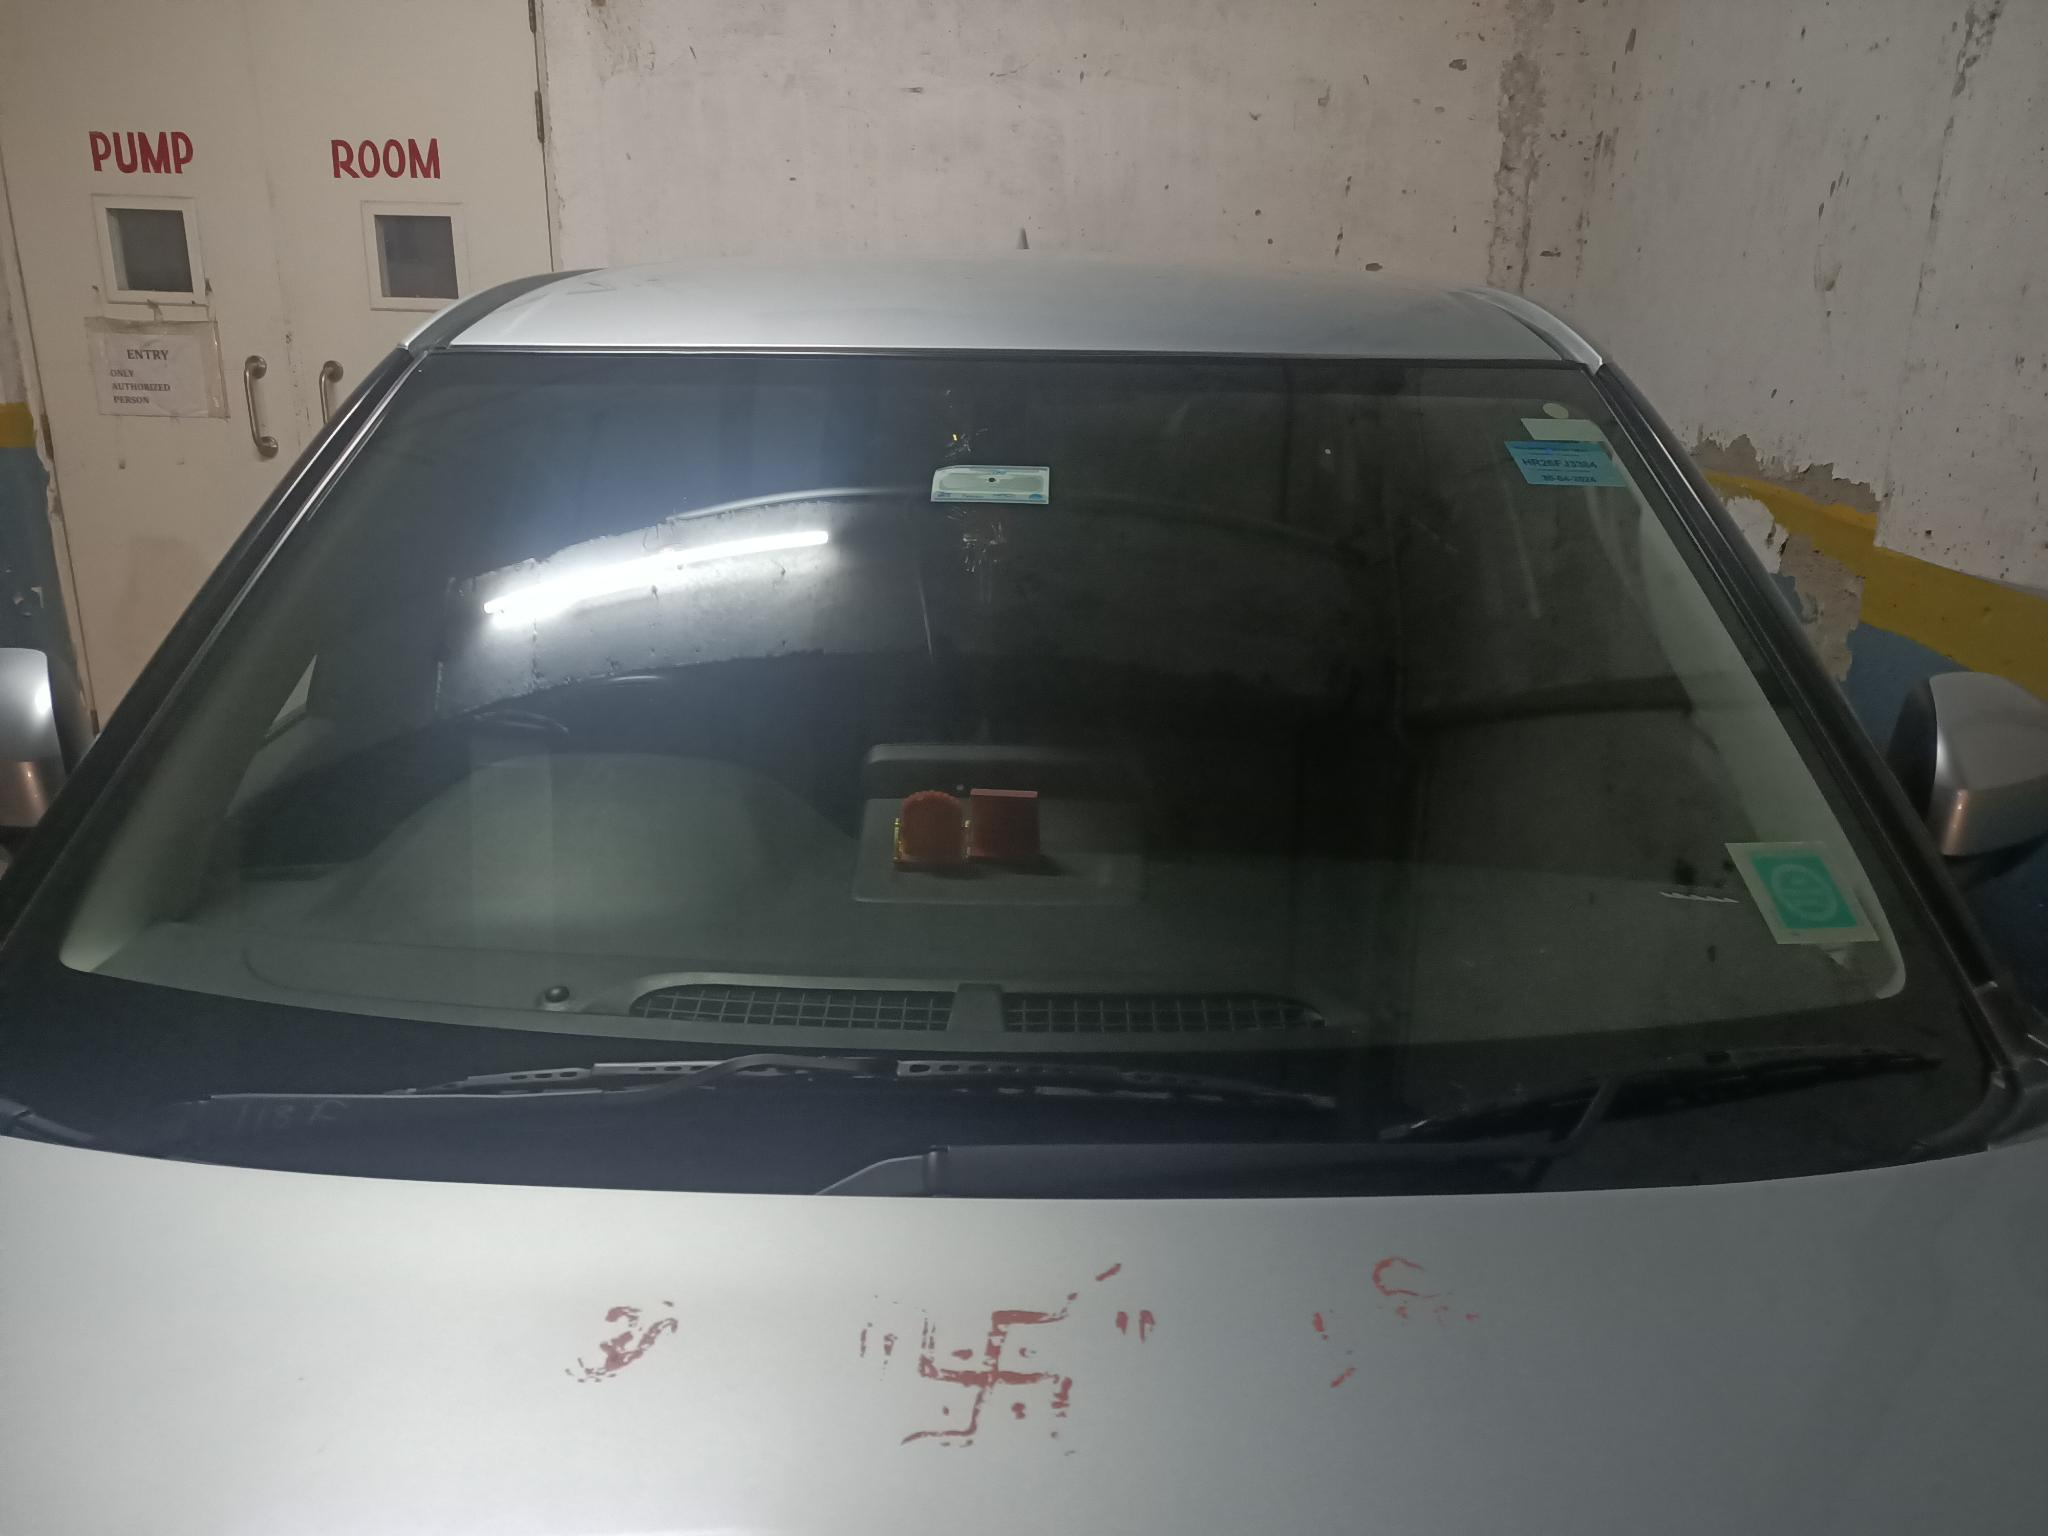FastTag: (922, 460, 1059, 516)
not a FastTag: (1714, 820, 1882, 966), (1490, 440, 1640, 497), (1505, 399, 1600, 440)
